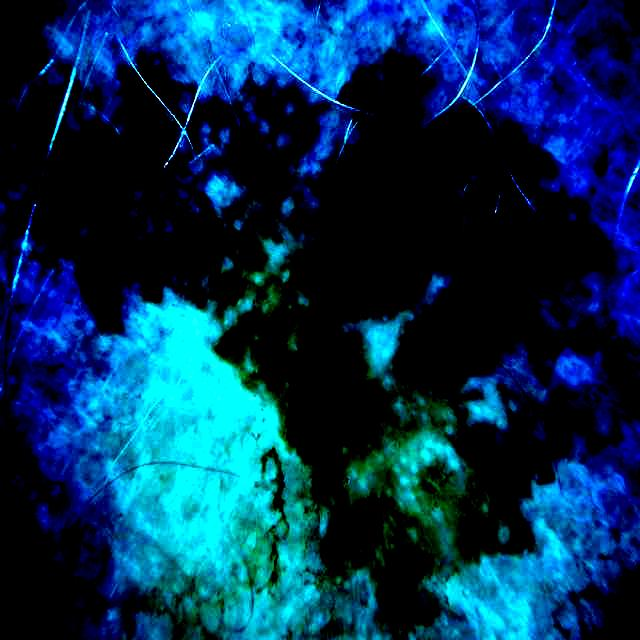BKL: (231, 286, 538, 614), (297, 110, 604, 406), (32, 48, 285, 326)
